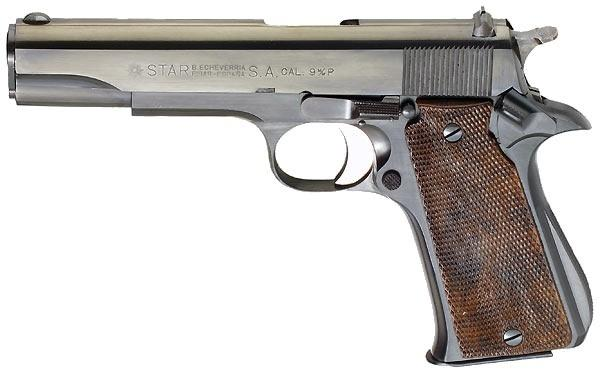gun: (8, 4, 599, 372)
